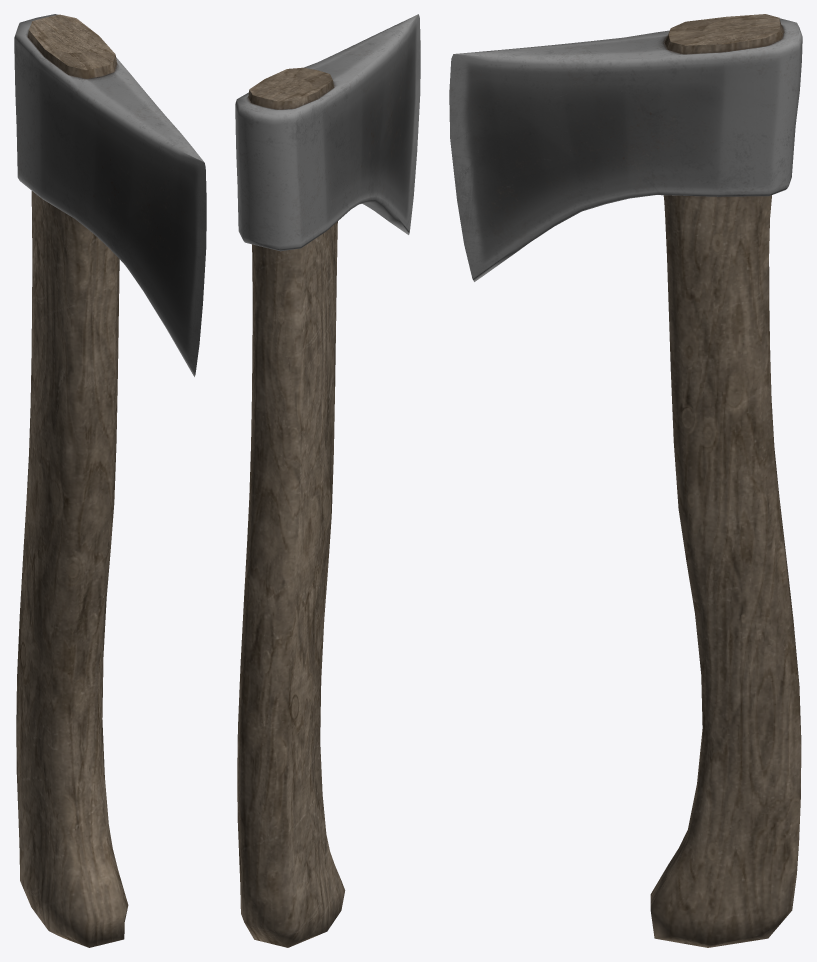
Rendered from simple_axe.glb.
3 renders of one model, left to right at view 1: azimuth 30°, elevation 25°; view 2: azimuth 150°, elevation 25°; view 3: azimuth 270°, elevation 25°, orthographic. The views are drawn at different scales.
Visible parts, largest first — view 1: Object_2; view 2: Object_2; view 3: Object_2.
Part boxes in pixels (box(x1,y1,x2,y2)): Object_2: box(14, 14, 206, 947); Object_2: box(235, 14, 420, 947); Object_2: box(449, 14, 802, 947).
Size of the model in its own units: 0.0514 by 0.6424 by 0.225.
1 material, 1 textured.
